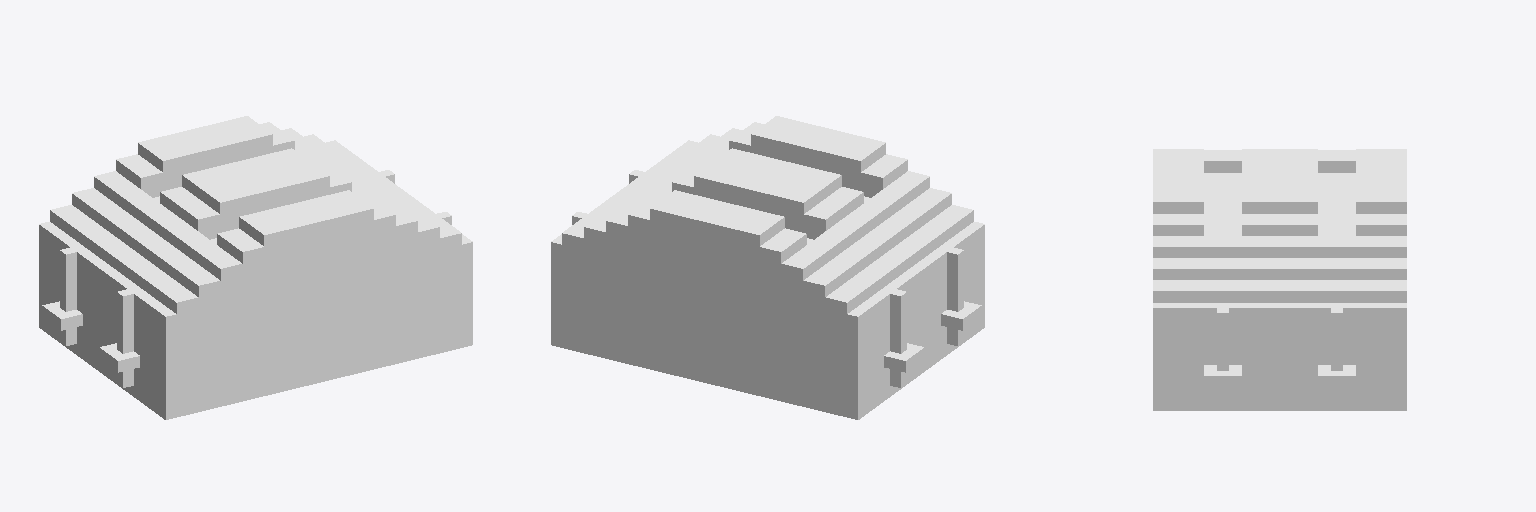
The model's file is tostadora.obj.
3 renders of one model, left to right at view 1: azimuth 30°, elevation 25°; view 2: azimuth 150°, elevation 25°; view 3: azimuth 270°, elevation 25°, orthographic.
Parts seen in each view (by area): view 1: object 1; view 2: object 1; view 3: object 1.
Part boxes in pixels (x1,y1,x2,y2): object 1: (39, 116, 472, 419); object 1: (551, 116, 984, 419); object 1: (1153, 149, 1406, 410).
Size of the model in its own units: 3.2 by 1.4 by 2.